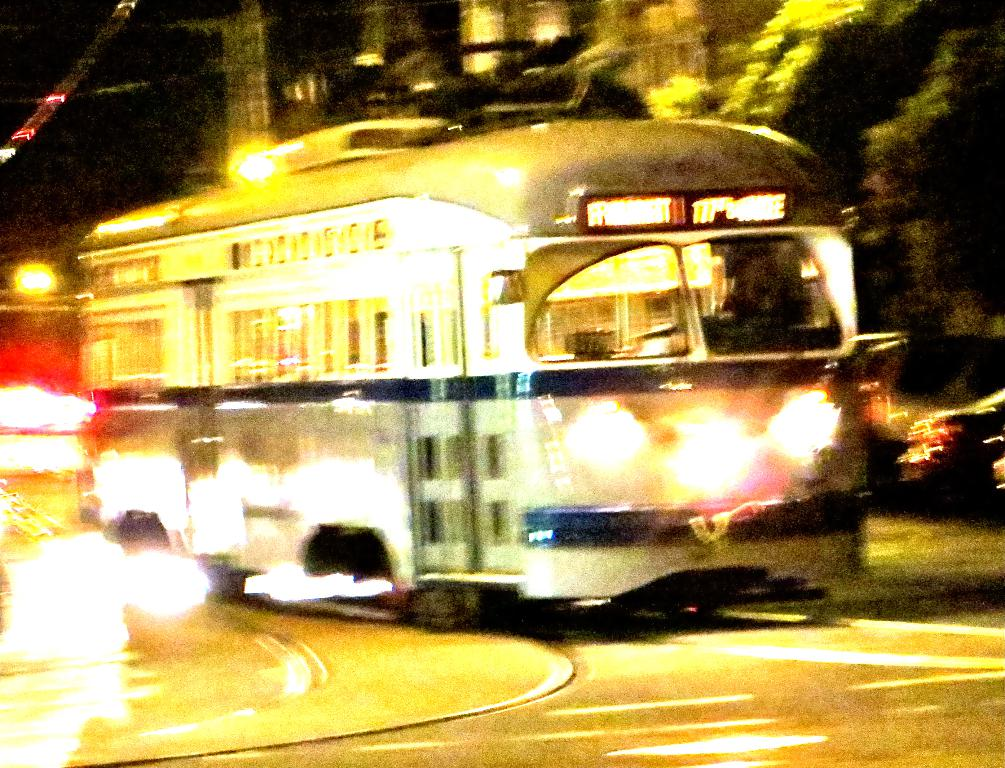Bus: (75, 113, 857, 608)
